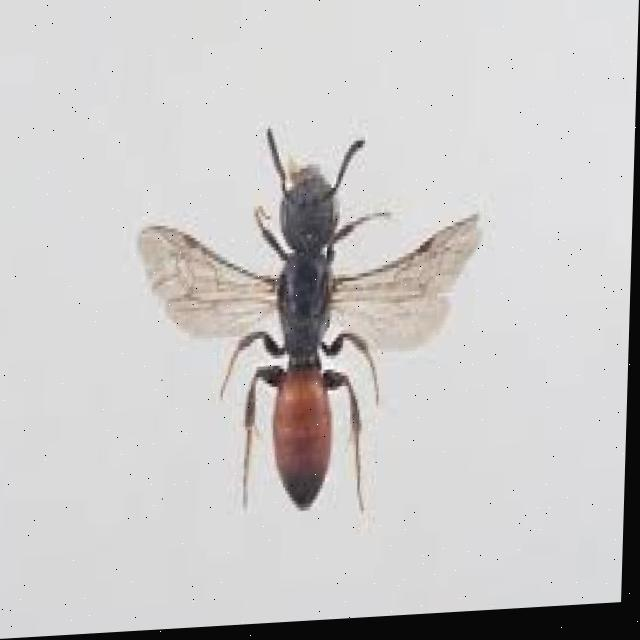Allodapula: (123, 106, 496, 549)
